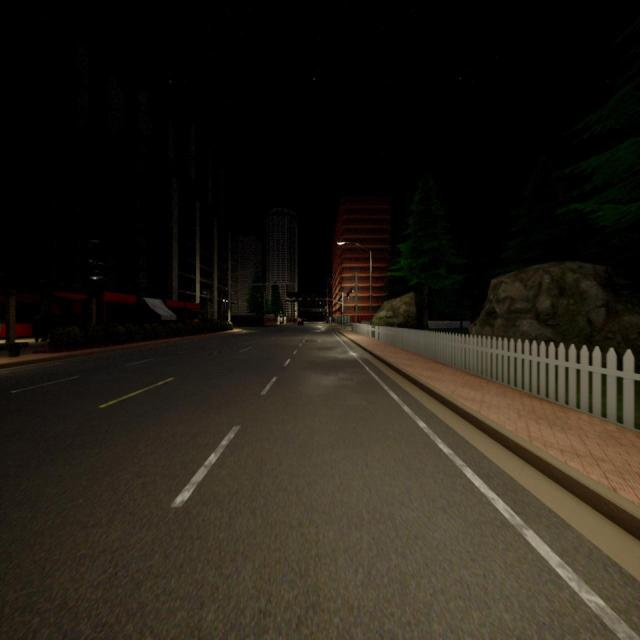Vehicle: (297, 319, 304, 326)
traffic_light: (308, 298, 310, 301), (316, 298, 318, 301), (326, 298, 328, 300)
